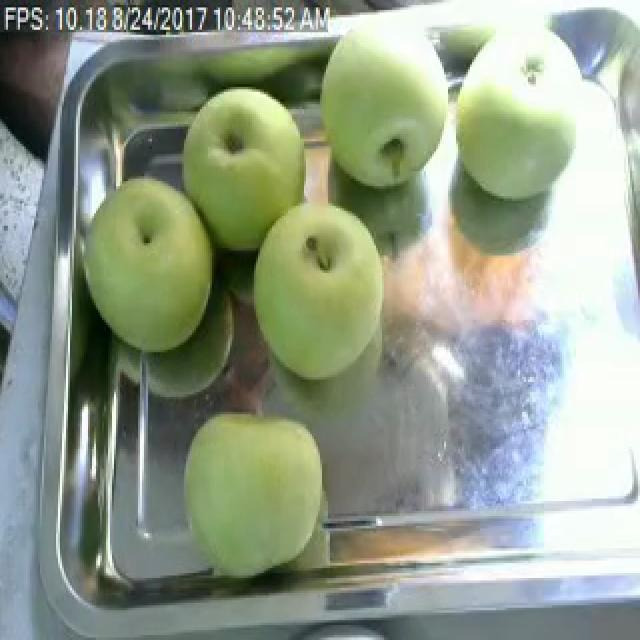50-_ripeness: (168, 400, 344, 577), (457, 25, 586, 218), (252, 201, 392, 374), (76, 181, 210, 360), (172, 89, 323, 244), (319, 19, 446, 194)
